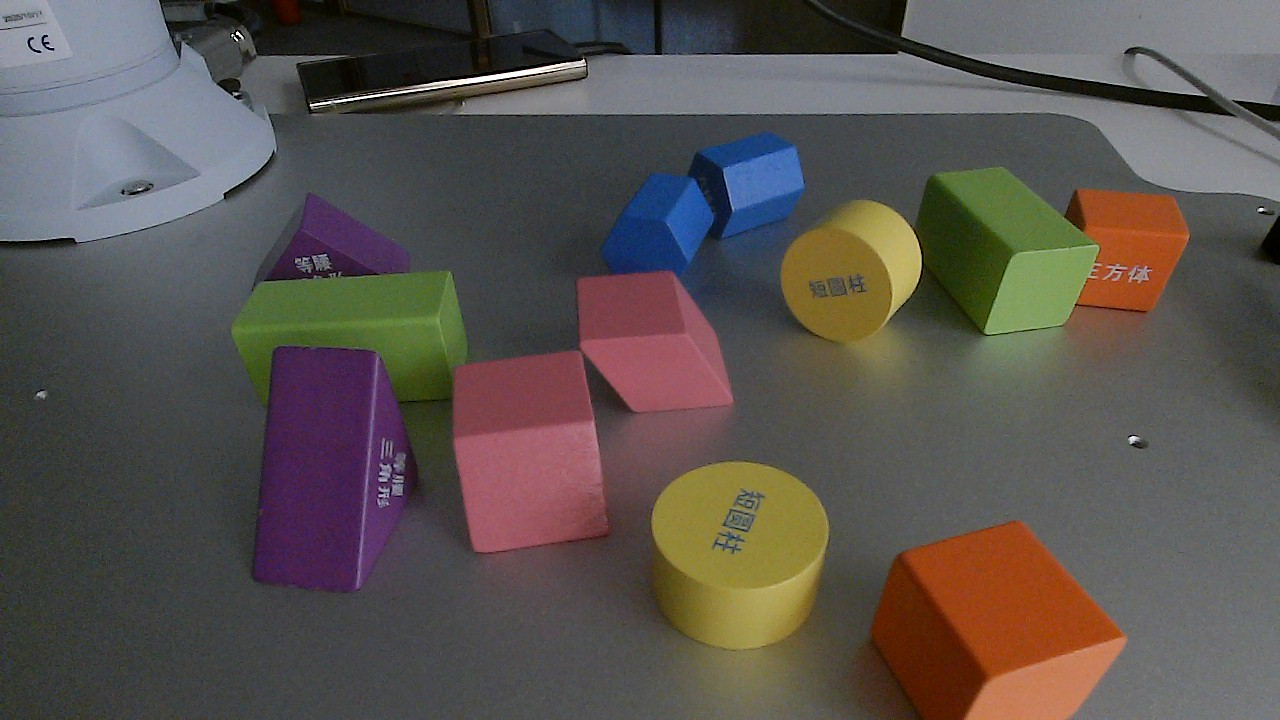circle: (651, 461, 828, 649), (781, 199, 923, 348)
diamond: (449, 349, 611, 556), (572, 267, 736, 413)
hexagon: (685, 133, 808, 241), (602, 173, 714, 284)
rectangle: (914, 164, 1099, 333), (230, 275, 472, 403)
square: (862, 511, 1136, 720), (1066, 186, 1191, 313)
triangle: (243, 343, 421, 592), (249, 190, 414, 286)
